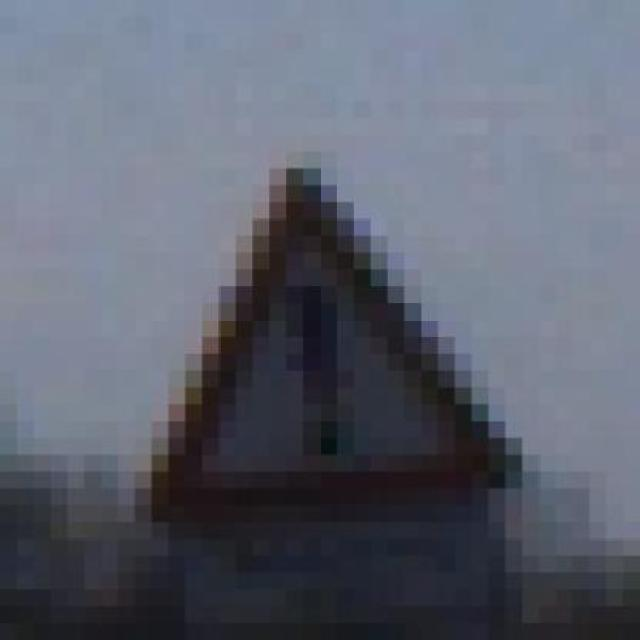Attention Please-: (67, 118, 539, 539)
